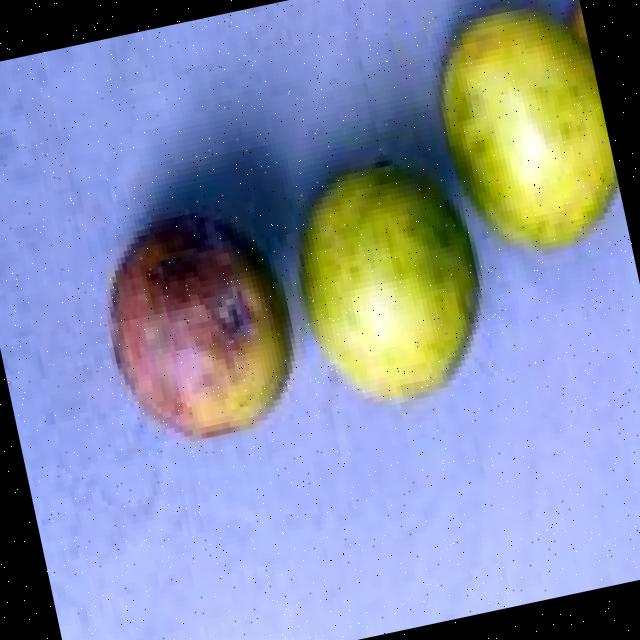Bad_Lime-0-1-day: (103, 222, 289, 444)
Good_Lime-10-21-days: (430, 14, 618, 251), (294, 170, 477, 406)
